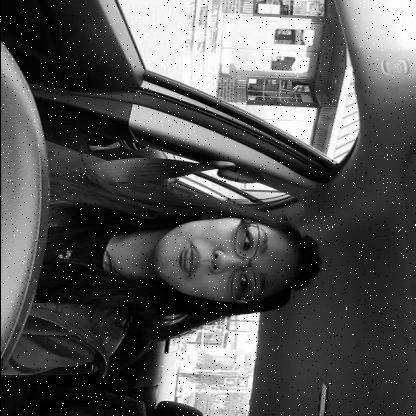seatbelt: (0, 154, 346, 332)
